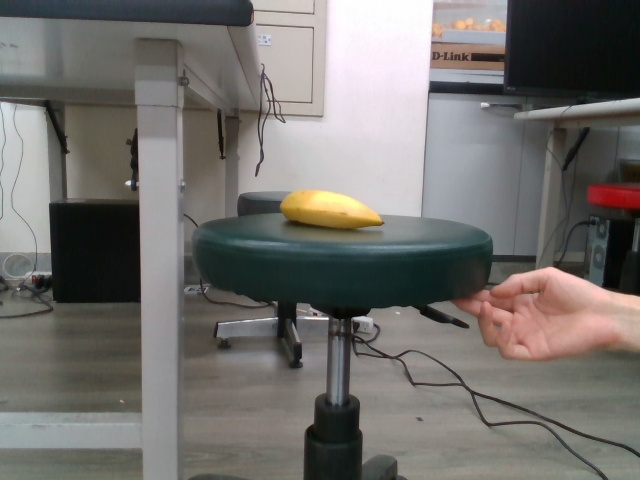banana: (278, 186, 385, 231)
